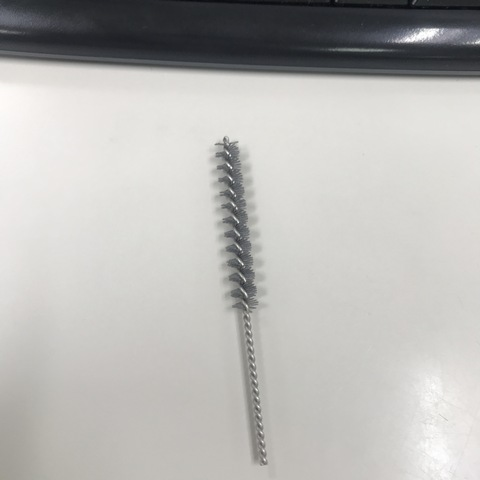Twist Brush-A: (208, 134, 277, 469)
